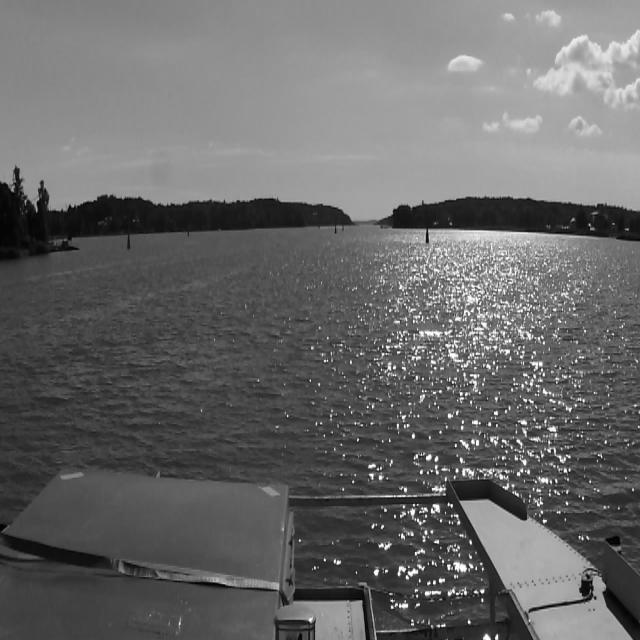buoy: (424, 224, 431, 246), (127, 226, 131, 252), (334, 222, 337, 236), (187, 223, 190, 237), (342, 223, 344, 232)
